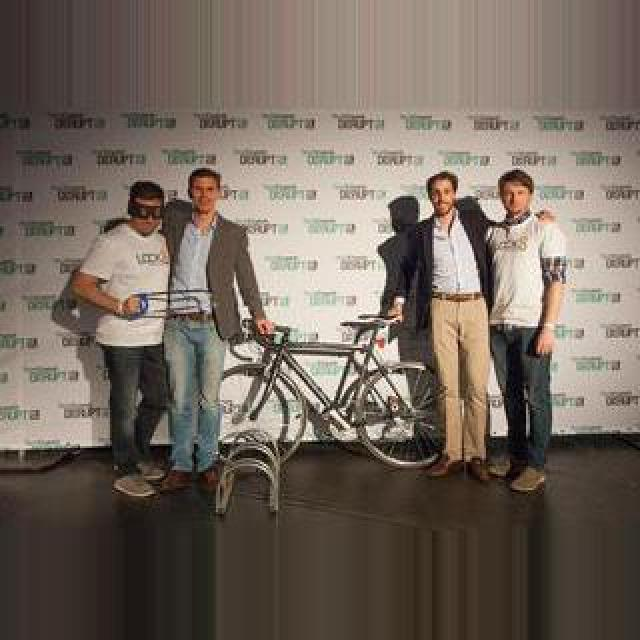MC-Bike: (154, 170, 276, 490), (374, 176, 498, 480), (68, 178, 176, 488), (474, 166, 570, 486)
Person: (217, 306, 447, 470)
